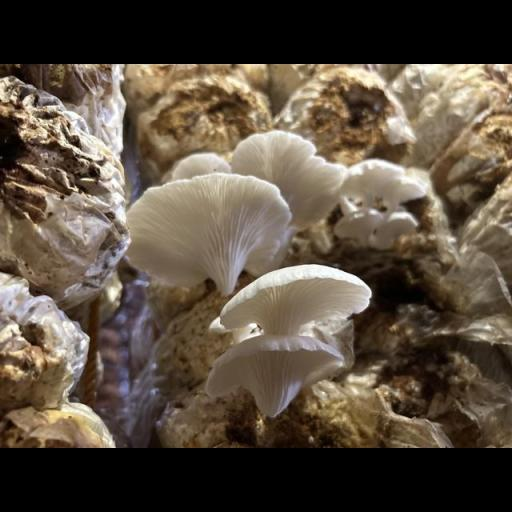White Oyster Mushroom: (129, 174, 291, 293), (209, 333, 349, 417), (229, 130, 347, 229), (219, 264, 372, 338), (334, 162, 429, 249), (169, 154, 233, 182)
